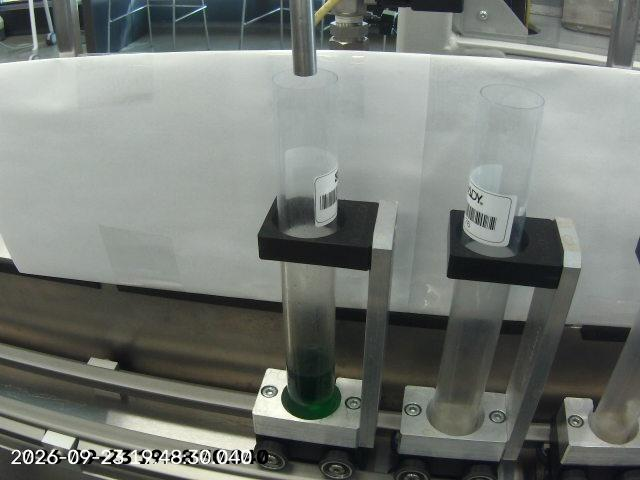vial: (422, 78, 566, 439), (250, 65, 363, 426)
